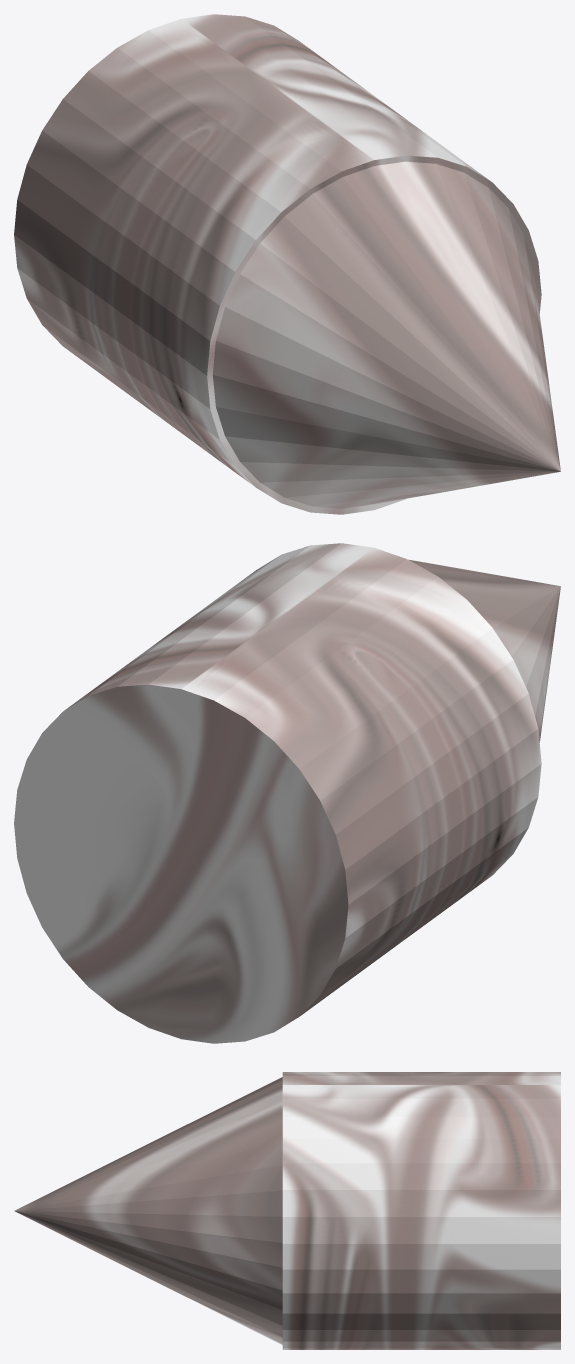
File: hoge.obj
The picture shows the model from 3 angles, top to bottom: view 1: azimuth 30°, elevation 25°; view 2: azimuth 150°, elevation 25°; view 3: azimuth 270°, elevation 25°; orthographic projection. The views are drawn at different scales.
Parts seen in each view (by area): view 1: 円柱; view 2: 円柱; view 3: 円柱.
Boxes of the visible parts, x1=… form: 円柱: x1=14, y1=14, x2=560, y2=514; 円柱: x1=14, y1=543, x2=560, y2=1043; 円柱: x1=14, y1=1072, x2=560, y2=1349.
Bounding box in the file's own units: 2 × 2 × 3.93.
1 material, 1 textured.
